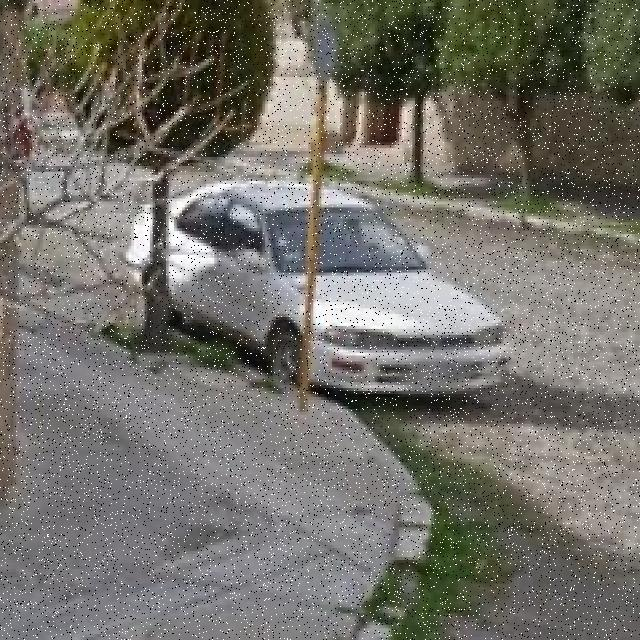cars: (126, 166, 516, 433)
